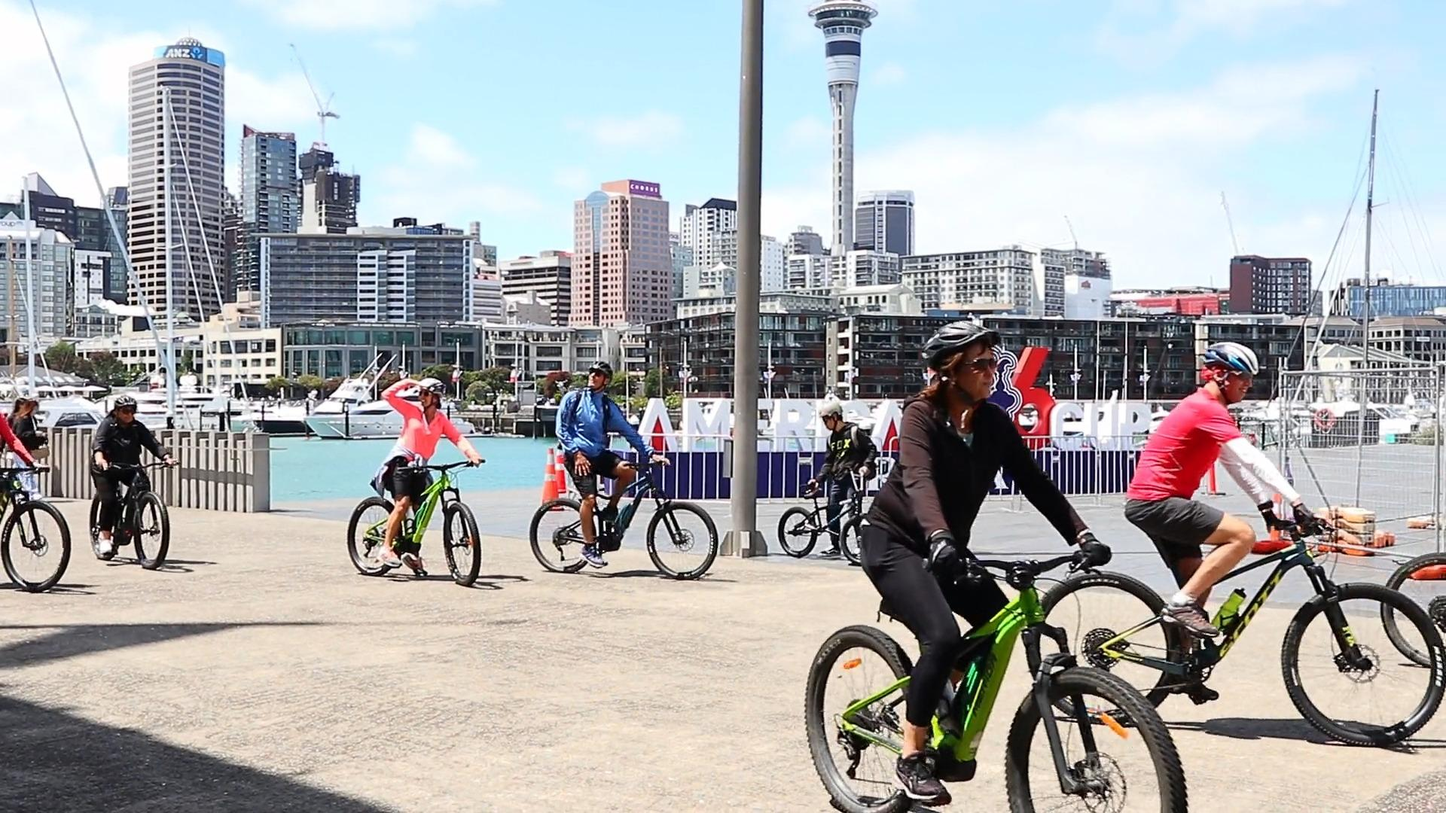bicyclist: (805, 321, 1188, 813), (1041, 341, 1446, 744), (529, 359, 718, 580), (349, 377, 485, 586), (90, 395, 180, 569)
helmet: (920, 321, 1001, 410), (1198, 341, 1259, 405), (418, 377, 447, 413), (588, 359, 613, 391), (819, 401, 843, 433), (115, 395, 138, 425)
